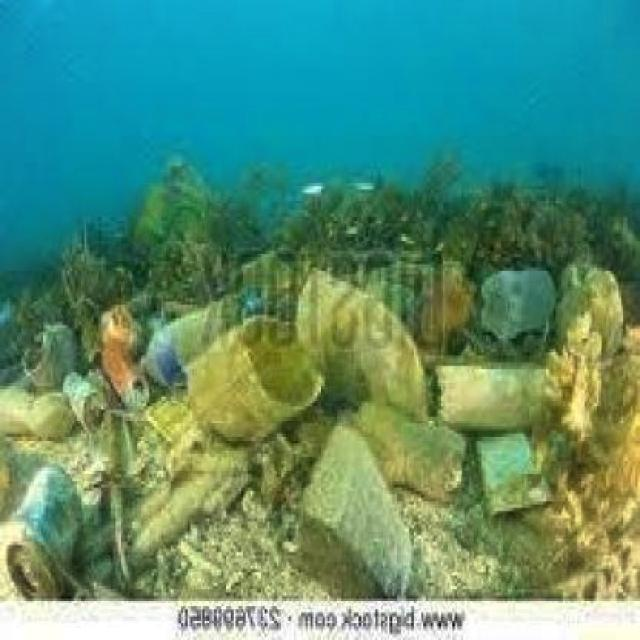can: (2, 454, 92, 600), (97, 315, 149, 407), (58, 362, 113, 441)
pbottle: (188, 318, 320, 440), (346, 396, 465, 501), (432, 352, 558, 437), (137, 292, 243, 376), (474, 261, 554, 356)
